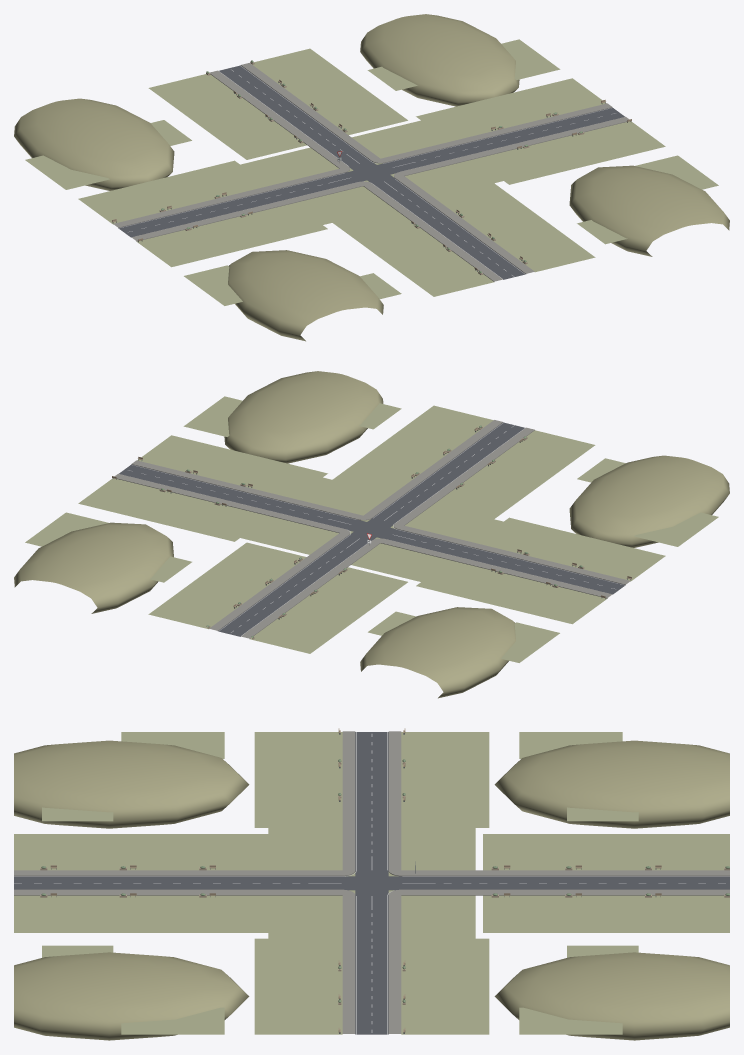
3 views of the same model, one above another, from view 1: azimuth 30°, elevation 25°; view 2: azimuth 150°, elevation 25°; view 3: azimuth 270°, elevation 25° (orthographic). The views are drawn at different scales.
Visible parts, largest first — view 1: static; view 2: static; view 3: static.
Part boxes in pixels (bbox=[...]): static: bbox=[14, 14, 729, 341]; static: bbox=[14, 371, 729, 698]; static: bbox=[14, 728, 729, 1040].
Size of what is drawn, in the model's own units: 180 by 14.08 by 180.
Materials: 5 (4 with a texture image).
